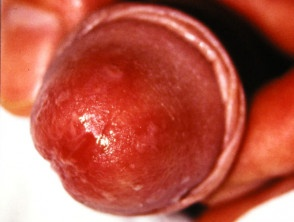SJS-TEN: (13, 38, 211, 222)
